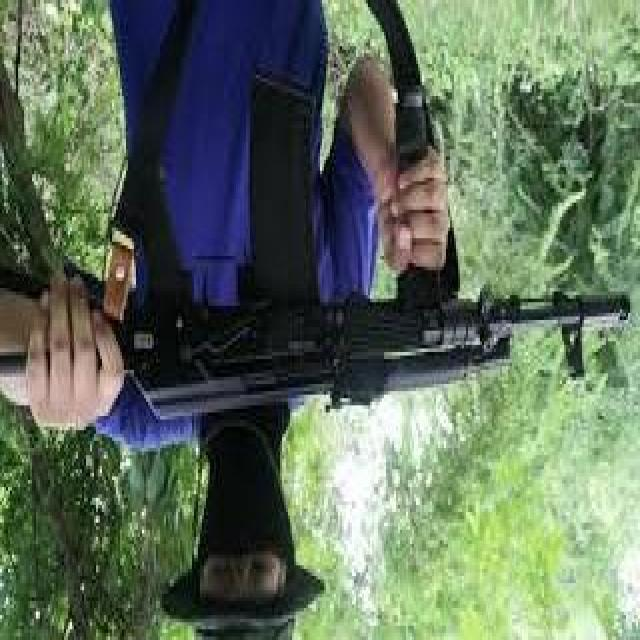weapon: (0, 71, 631, 424)
